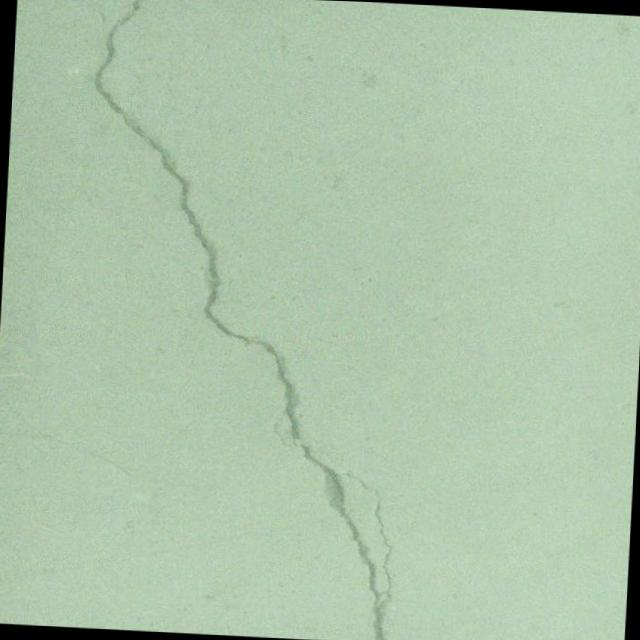crack: (34, 0, 429, 640)
